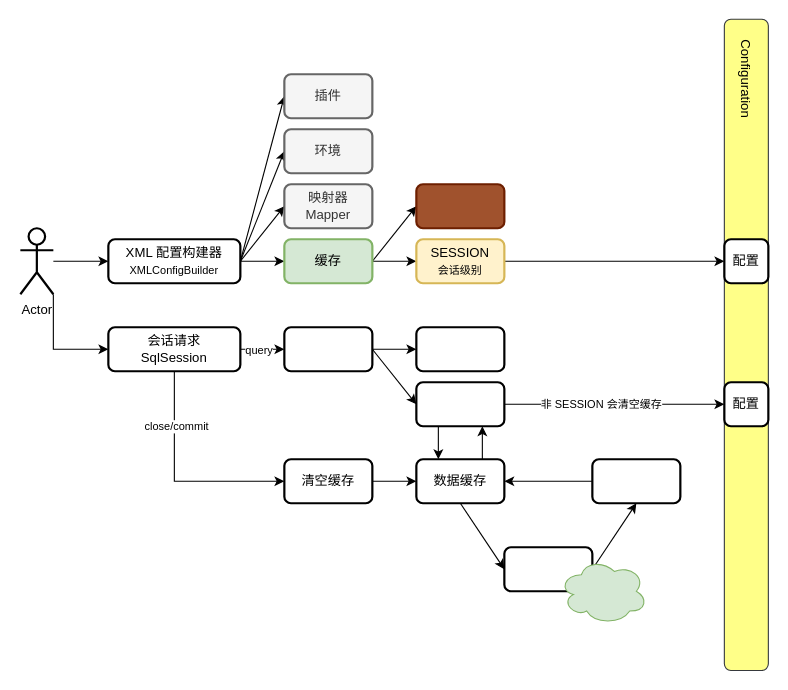
Some shapes in this 788 by 690 pixel diagram are drawn without their labels. Each missing label, with the centre of its shape:
"BlockingCache 避免缓存击穿" goes at pixel 602 590.
"STATEMENT 不缓存" goes at pixel 460 206.
"创建执行器 BaseExecutor" goes at pixel 328 349.
"占位符" goes at pixel 548 569.
"执行查询" goes at pixel 460 404.
"查询库" goes at pixel 636 481.
"获取缓存Key" goes at pixel 460 349.
